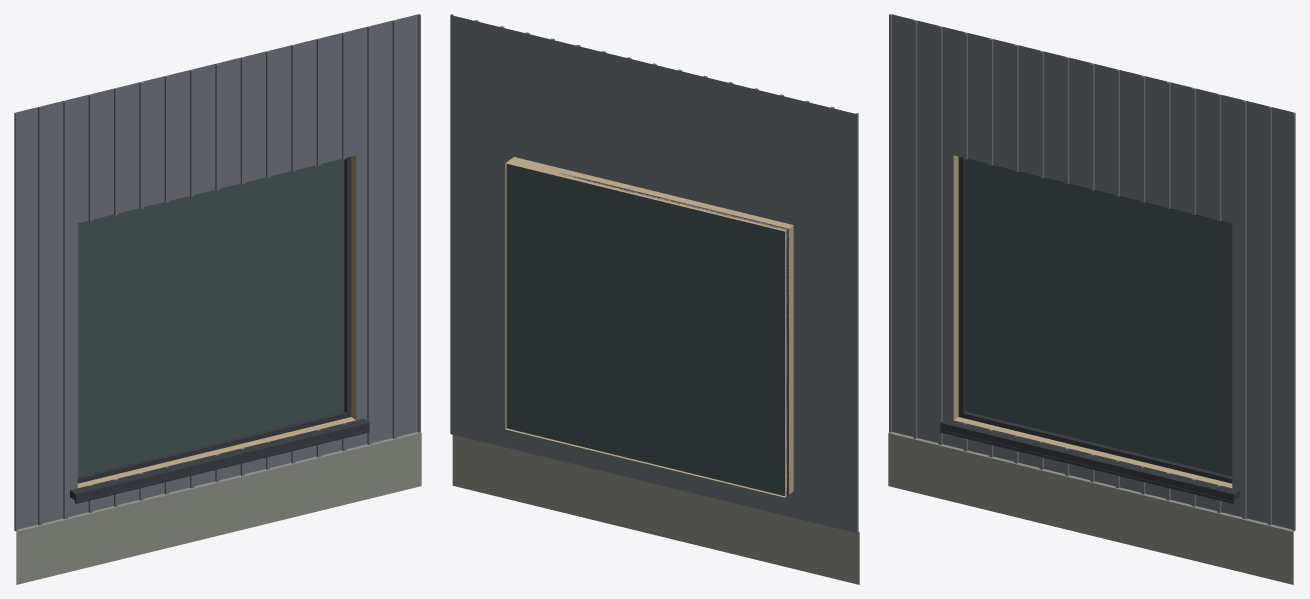
Rendered from base-w1_close.fbx.
3 renders of one model, left to right at view 1: azimuth 30°, elevation 25°; view 2: azimuth 150°, elevation 25°; view 3: azimuth 330°, elevation 25°, orthographic.
Visible parts, largest first — view 1: a2000s2/600/base-w1_close; view 2: a2000s2/600/base-w1_close; view 3: a2000s2/600/base-w1_close.
Part boxes in pixels (x1,y1,x2,y2): a2000s2/600/base-w1_close: (14,14,421,584); a2000s2/600/base-w1_close: (450,14,859,584); a2000s2/600/base-w1_close: (888,14,1295,584).
Bounding box in the file's own units: 3.2 × 3.55 × 0.205.
